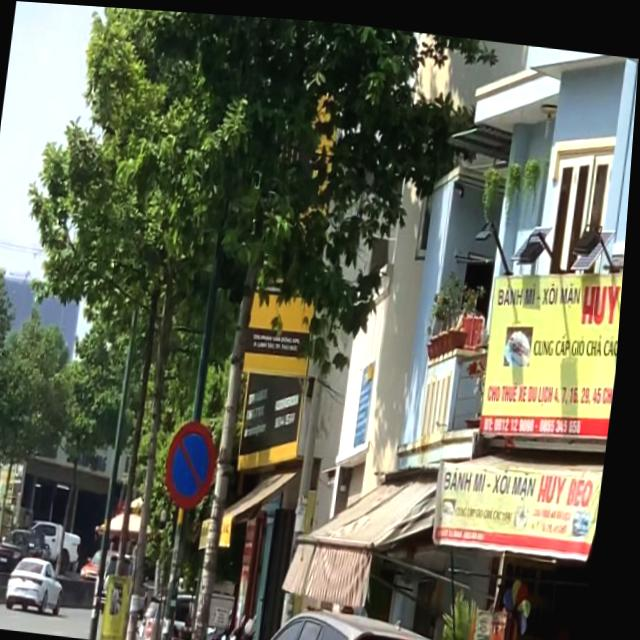Cam do xe: (163, 415, 231, 517)
